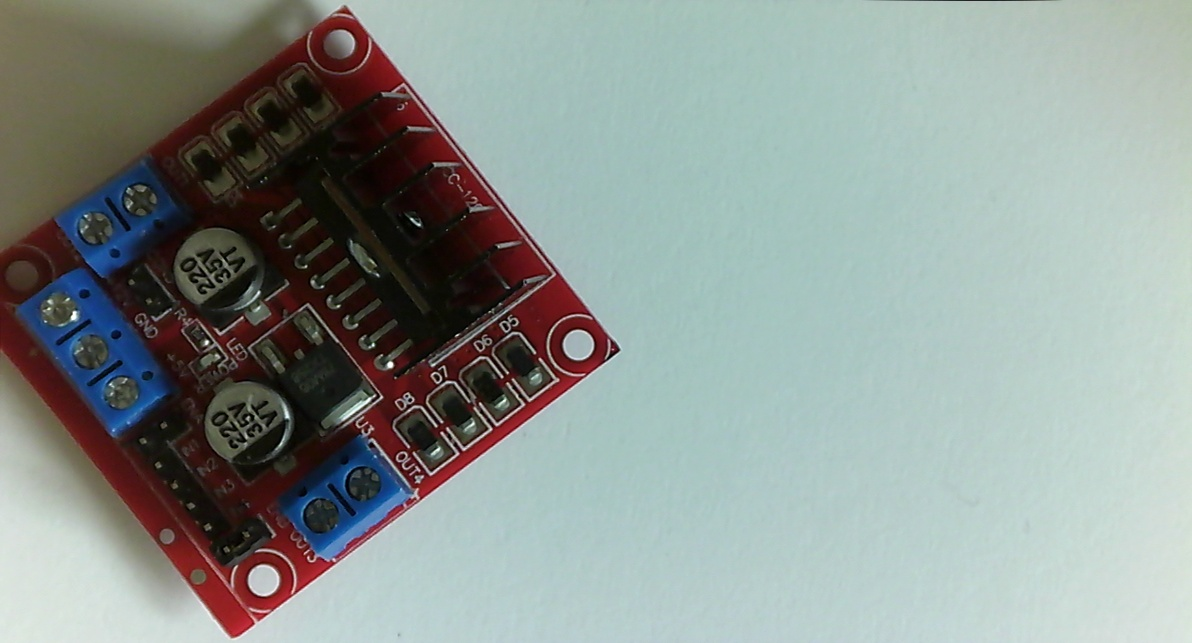l298n: (3, 14, 649, 634)
